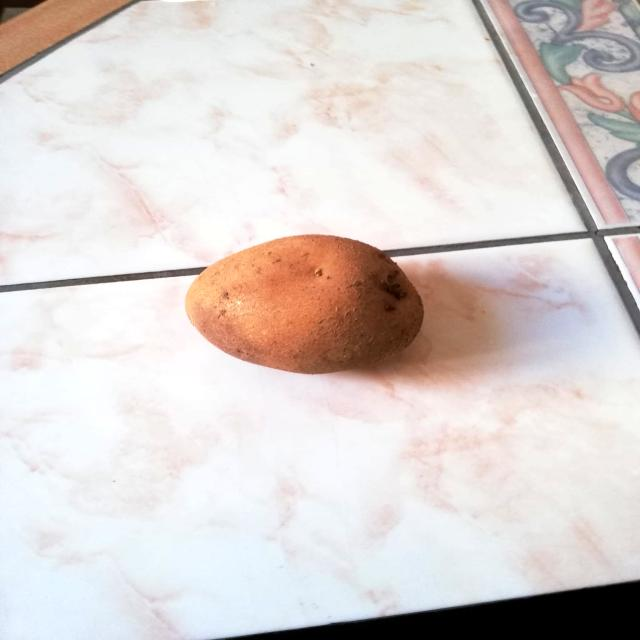potato: (176, 230, 434, 376)
